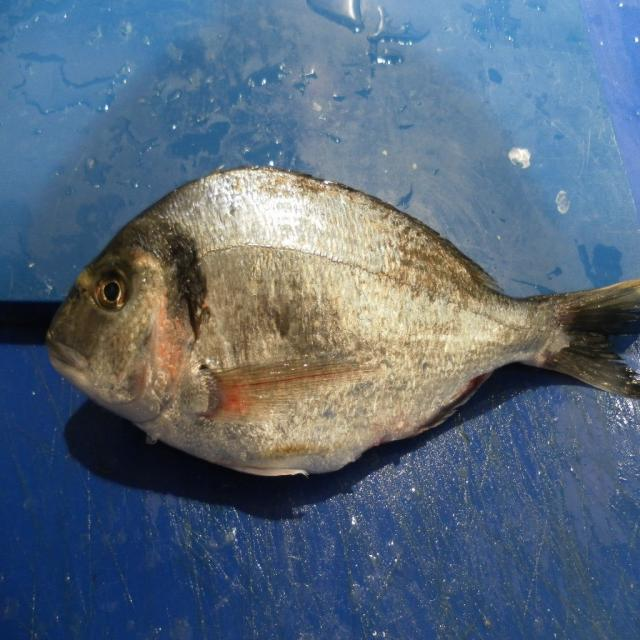Gilt-Head-Bream-c-ipura-: (44, 167, 640, 481)
